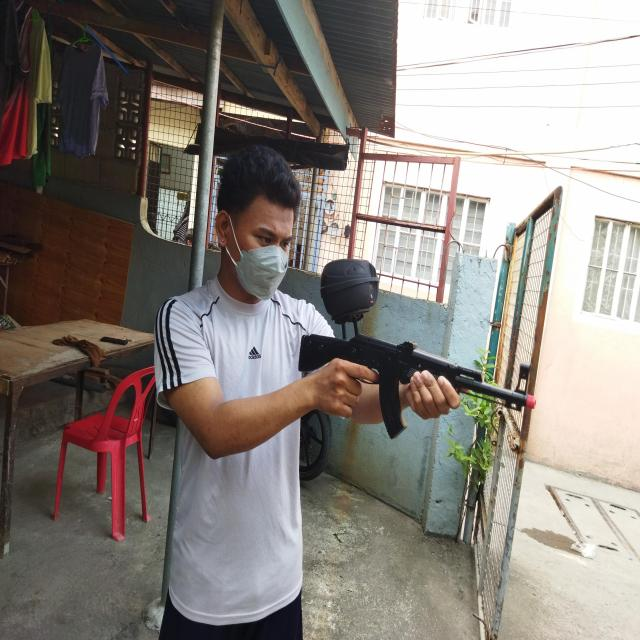rifle: (298, 333, 537, 440)
